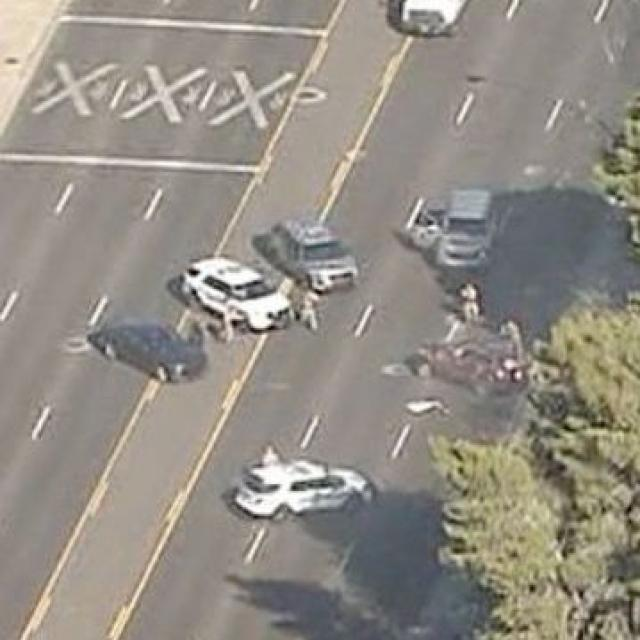traffic_incident: (382, 289, 533, 417)
